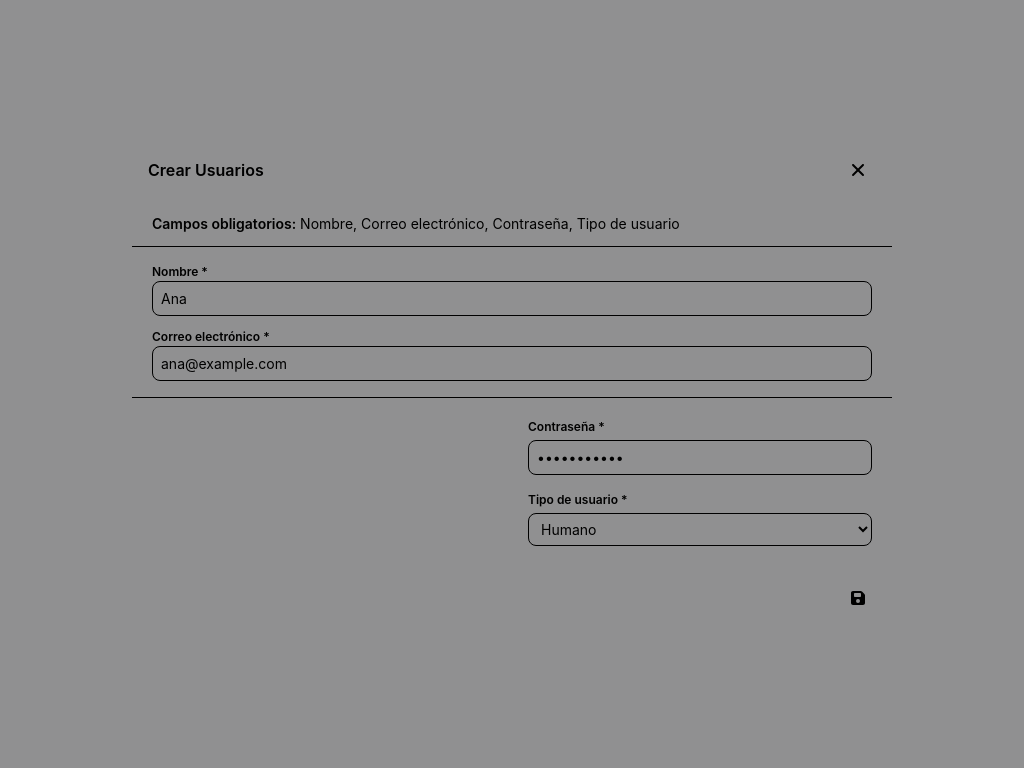
create modal required fields › shows the specific GraphQL error when record creation fails
What coordinates should you click on to do the following:
click the button named "Guardar"
I would click on:
 (858, 598)
Its box is top-left (840, 580), bottom-right (876, 616).
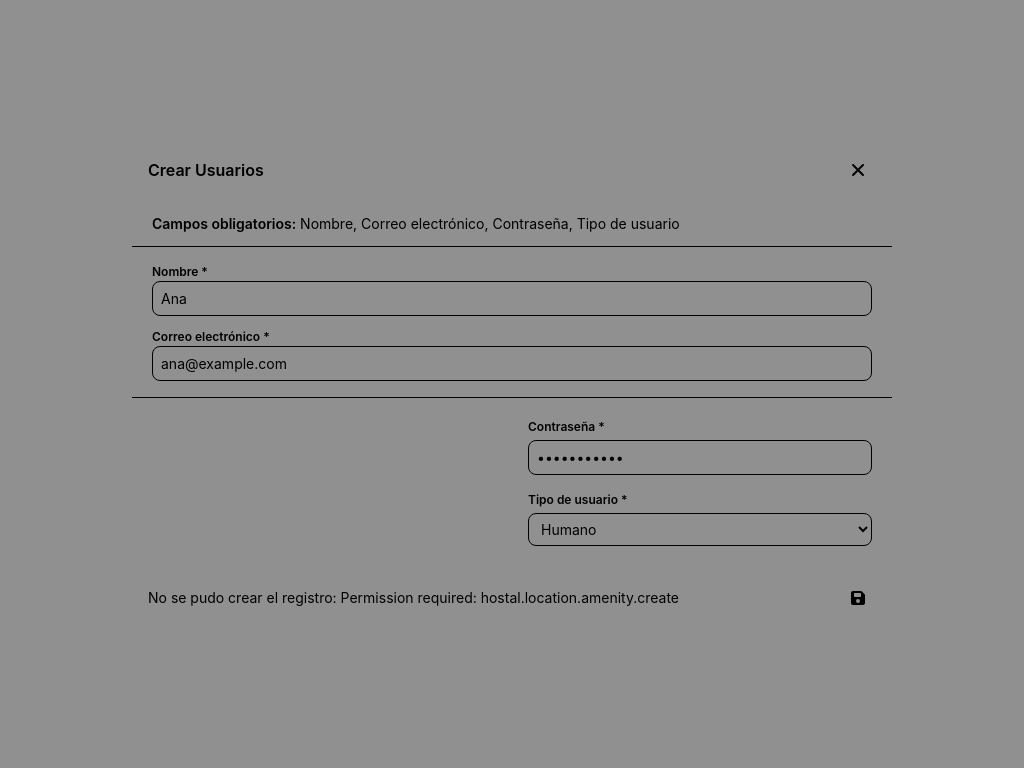
Check: the text "No se pudo crear el registro: Permission required: hostal.location.amenity.create" is shown, box top-left (148, 589), bottom-right (679, 606)
